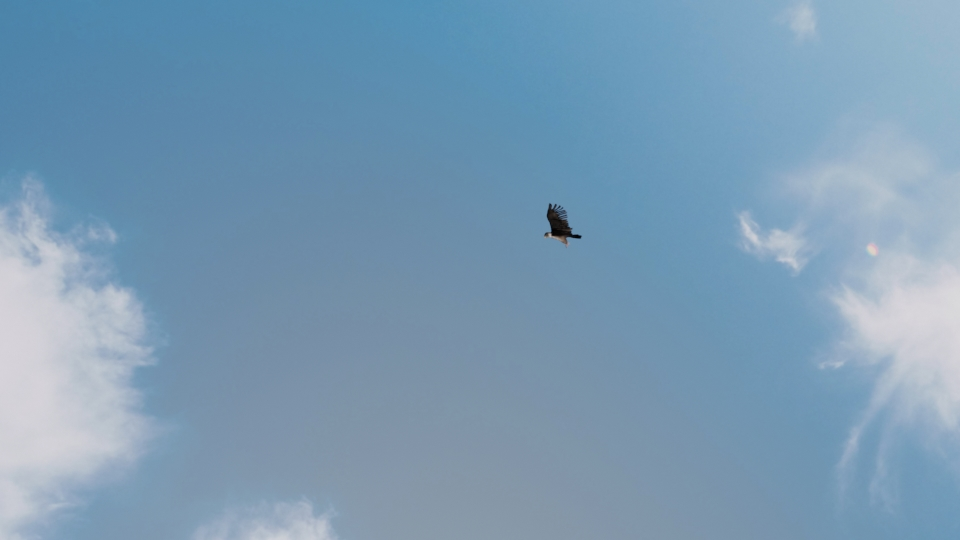bird: (541, 201, 583, 247)
